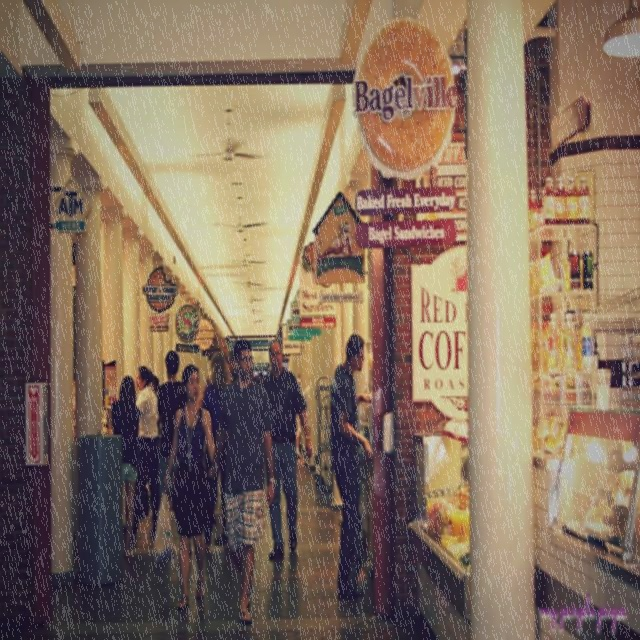pessoa: (209, 336, 276, 626), (162, 364, 216, 610), (329, 333, 376, 603), (260, 340, 314, 562), (110, 372, 140, 560), (200, 350, 228, 546), (130, 364, 160, 537), (156, 349, 188, 501), (214, 348, 238, 550), (194, 371, 216, 526), (293, 372, 310, 467), (198, 368, 214, 402), (256, 362, 273, 385), (150, 372, 160, 393)
